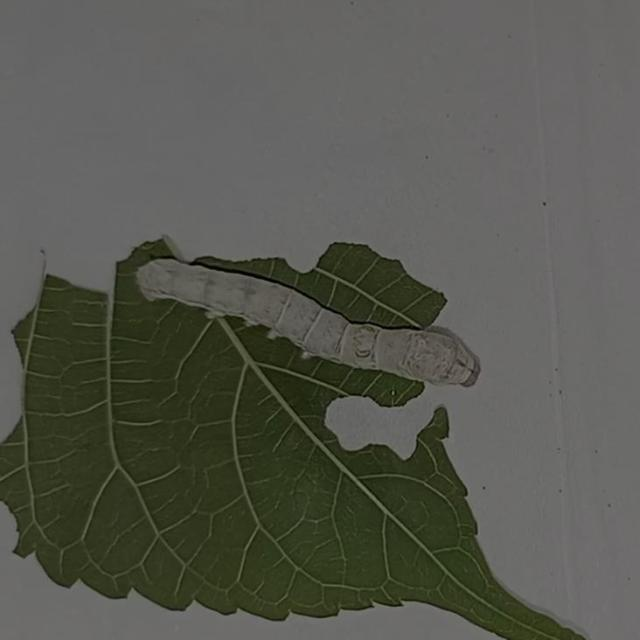Healthy: (131, 244, 486, 412)
